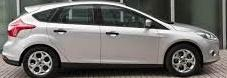Crossovers: (4, 3, 220, 78)
